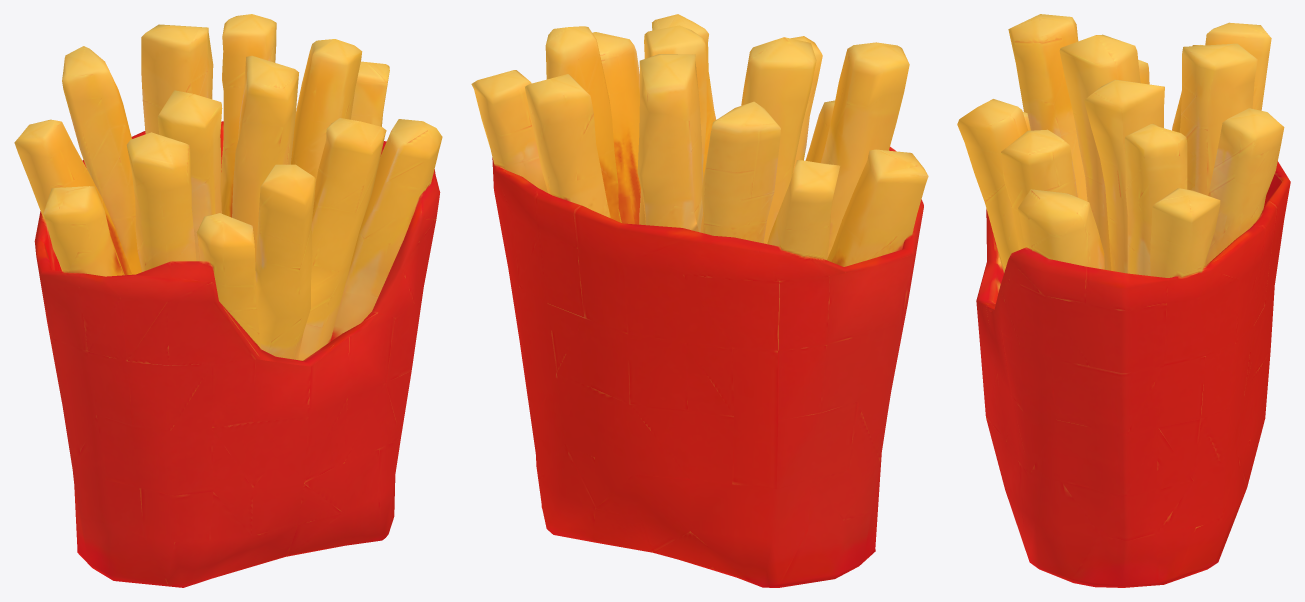
The model's file is fries.glb.
The picture shows the model from 3 angles, left to right: view 1: azimuth 30°, elevation 25°; view 2: azimuth 150°, elevation 25°; view 3: azimuth 270°, elevation 25°; orthographic projection. The views are drawn at different scales.
Size of the model in its own units: 1.65 by 1.89 by 1.23.
Materials: 1 (1 with a texture image).
